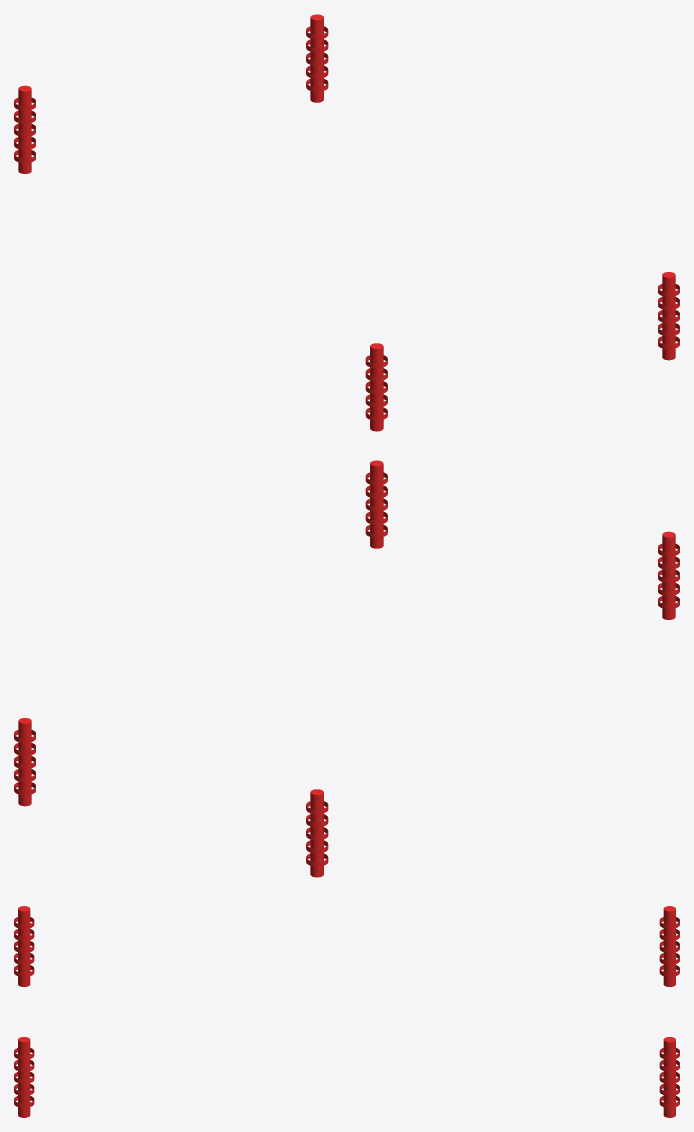
The model's file is adaptive_coilovers.glb.
3 renders of one model, top to bottom at view 1: azimuth 30°, elevation 25°; view 2: azimuth 150°, elevation 25°; view 3: azimuth 270°, elevation 25°, orthographic. The views are drawn at different scales.
Parts seen in each view (by area): view 1: GEO_Adaptive_Coilovers; view 2: GEO_Adaptive_Coilovers; view 3: GEO_Adaptive_Coilovers.
Boxes of the visible parts, x1,y1,x2,y2 form: GEO_Adaptive_Coilovers: (14,14,679,431); GEO_Adaptive_Coilovers: (14,460,679,877); GEO_Adaptive_Coilovers: (14,906,679,1117).
Bounding box in the file's own units: 1.49 × 0.38 × 3.01.
